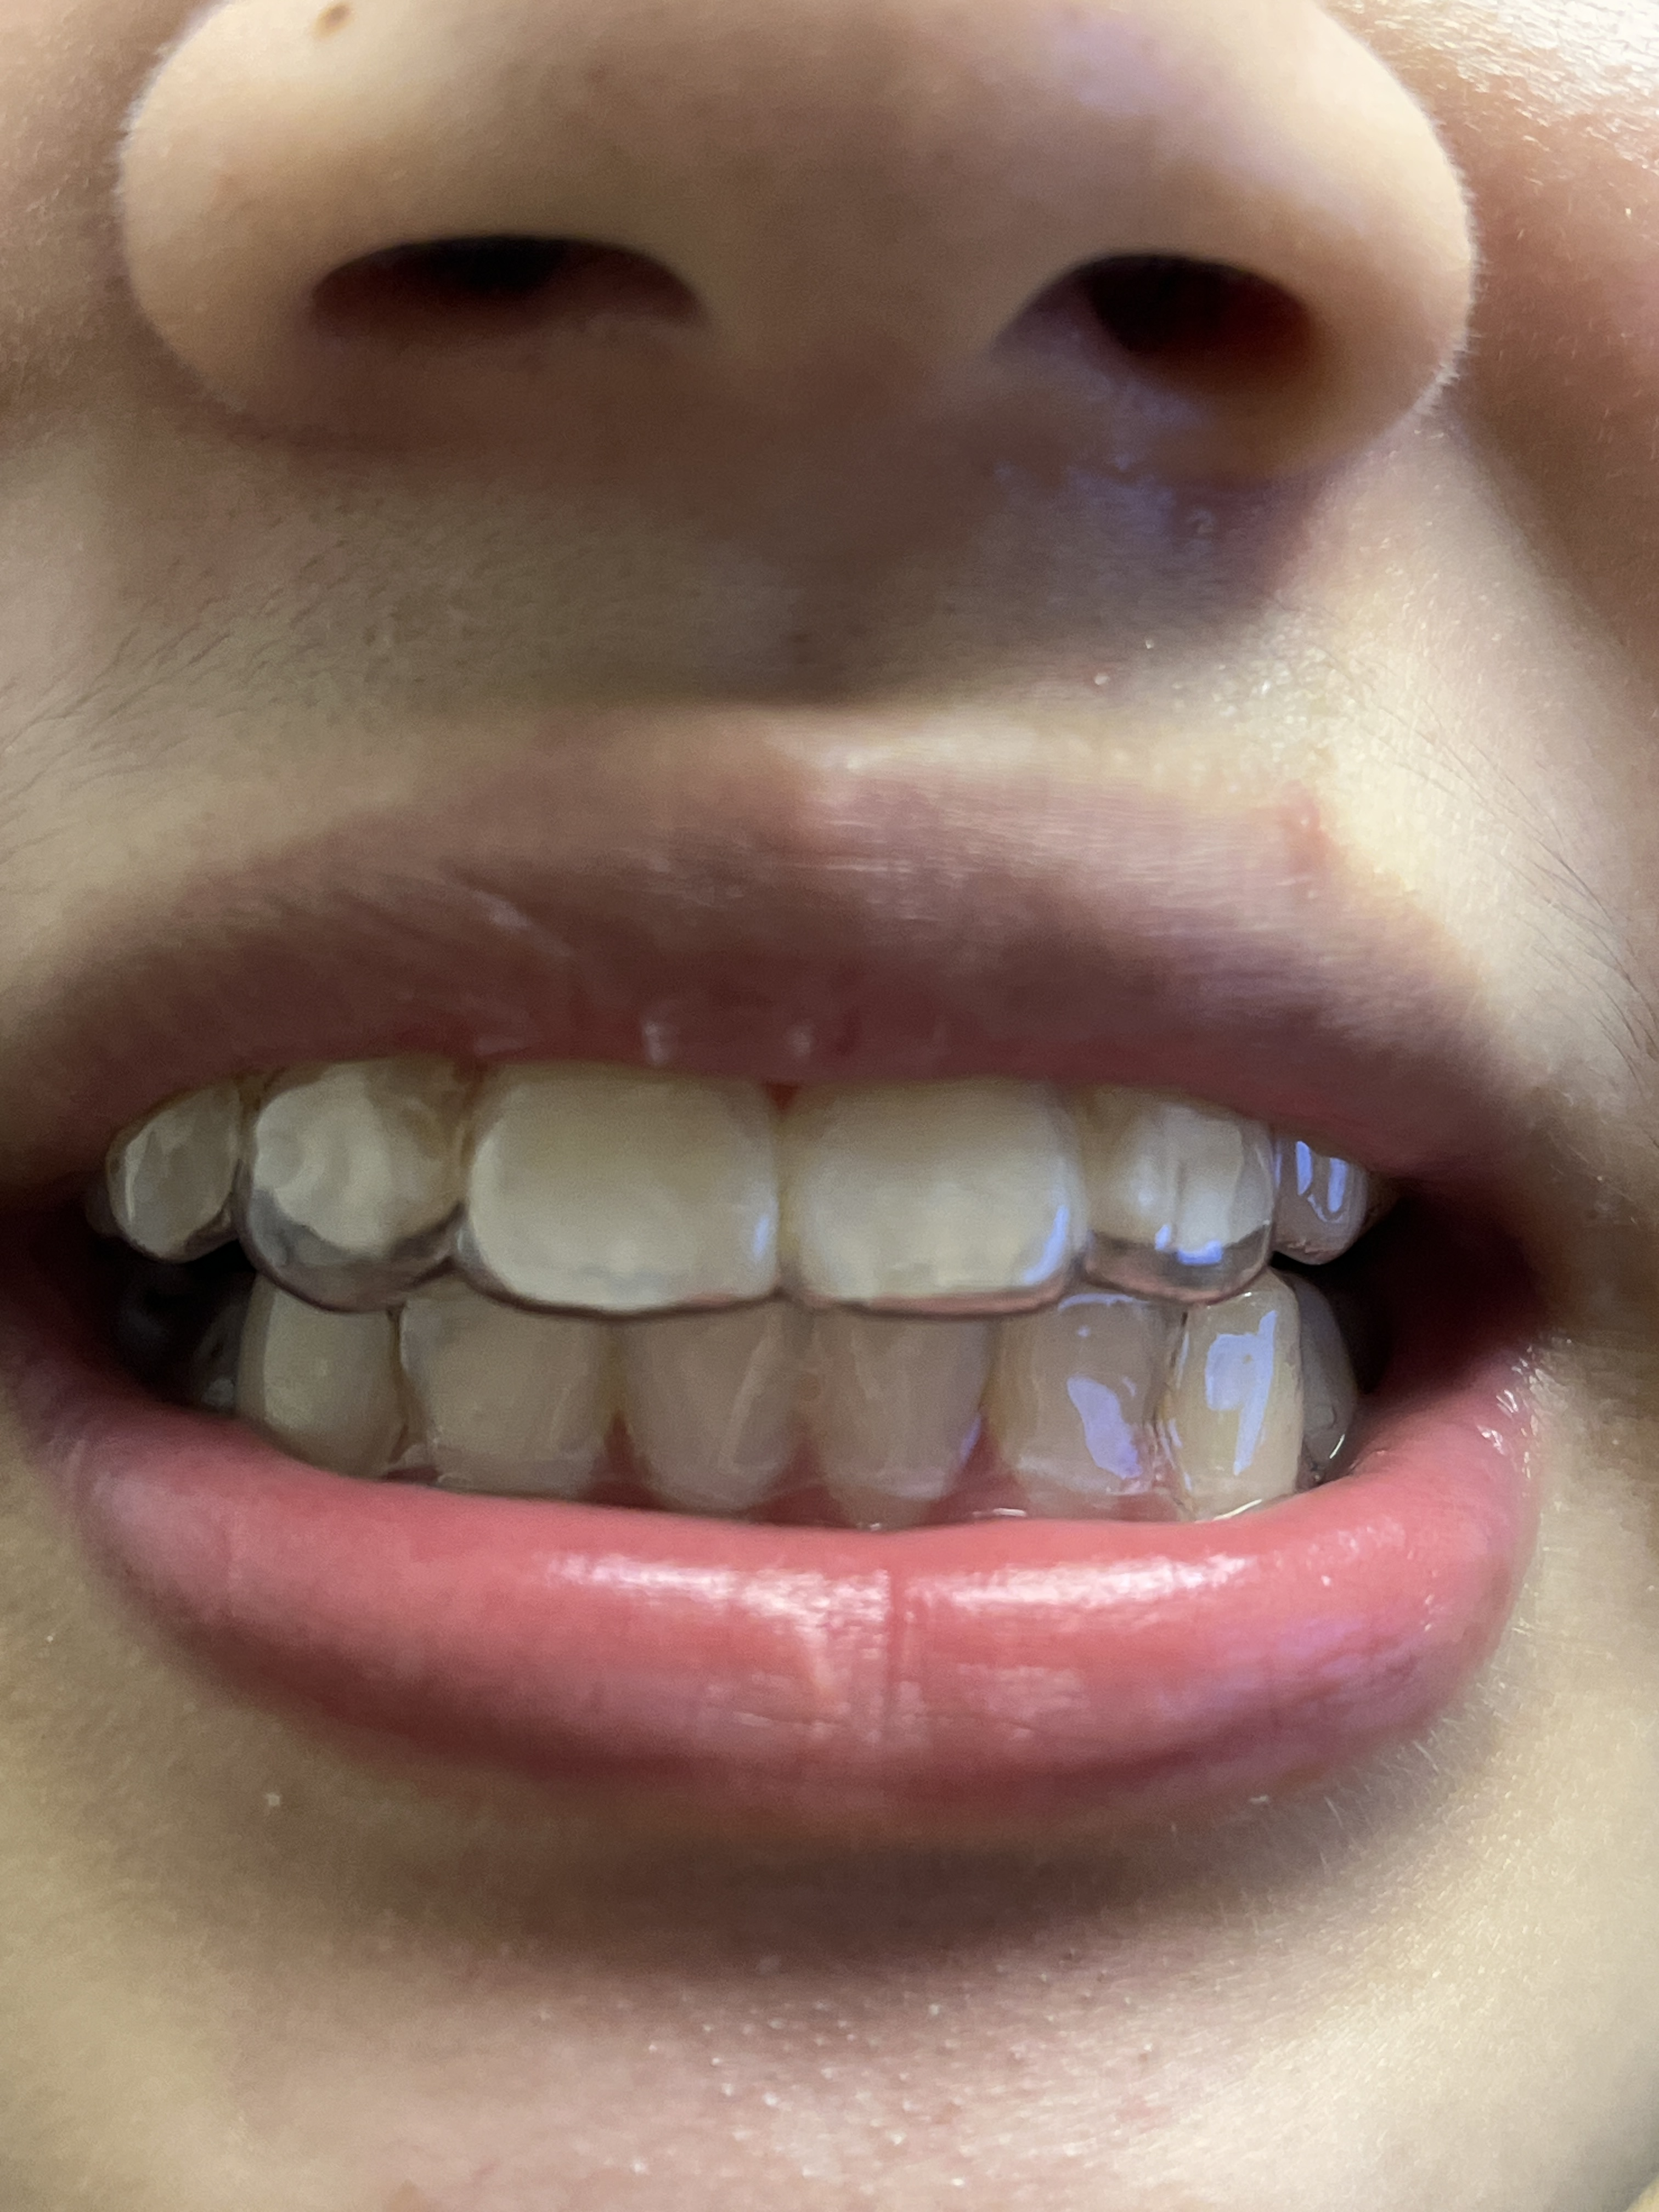teeth: (495, 1080, 770, 1278), (830, 1111, 1025, 1284), (647, 1329, 782, 1505), (284, 1092, 425, 1256), (1114, 1092, 1249, 1261), (455, 1299, 577, 1477), (1183, 1299, 1284, 1505), (1035, 1313, 1141, 1489), (835, 1329, 953, 1480), (240, 1329, 350, 1451), (167, 1123, 221, 1205)
